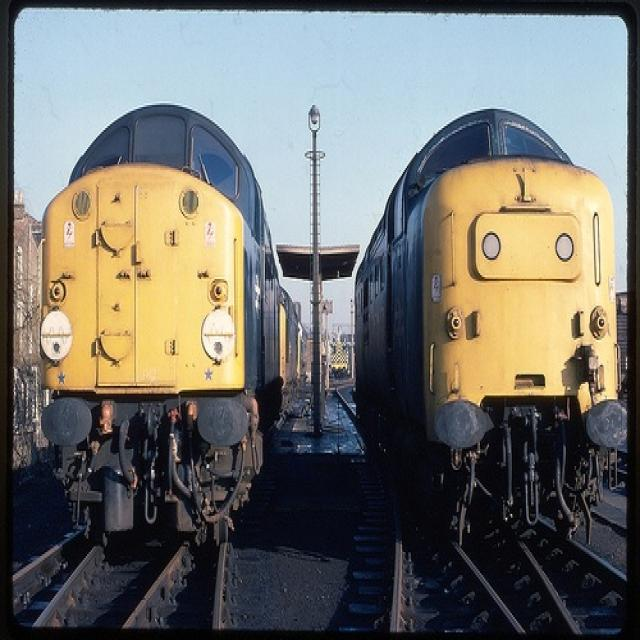train: (339, 102, 629, 566), (36, 103, 307, 558)
